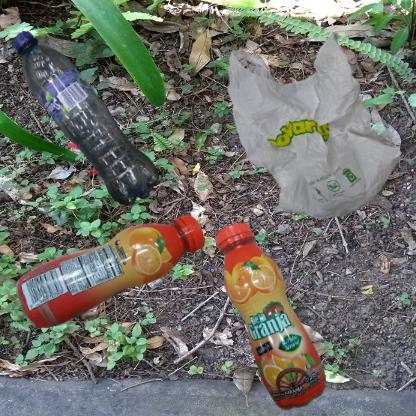bolsa: (213, 10, 416, 259)
botella: (10, 10, 177, 243), (10, 213, 223, 336), (213, 213, 340, 416)
